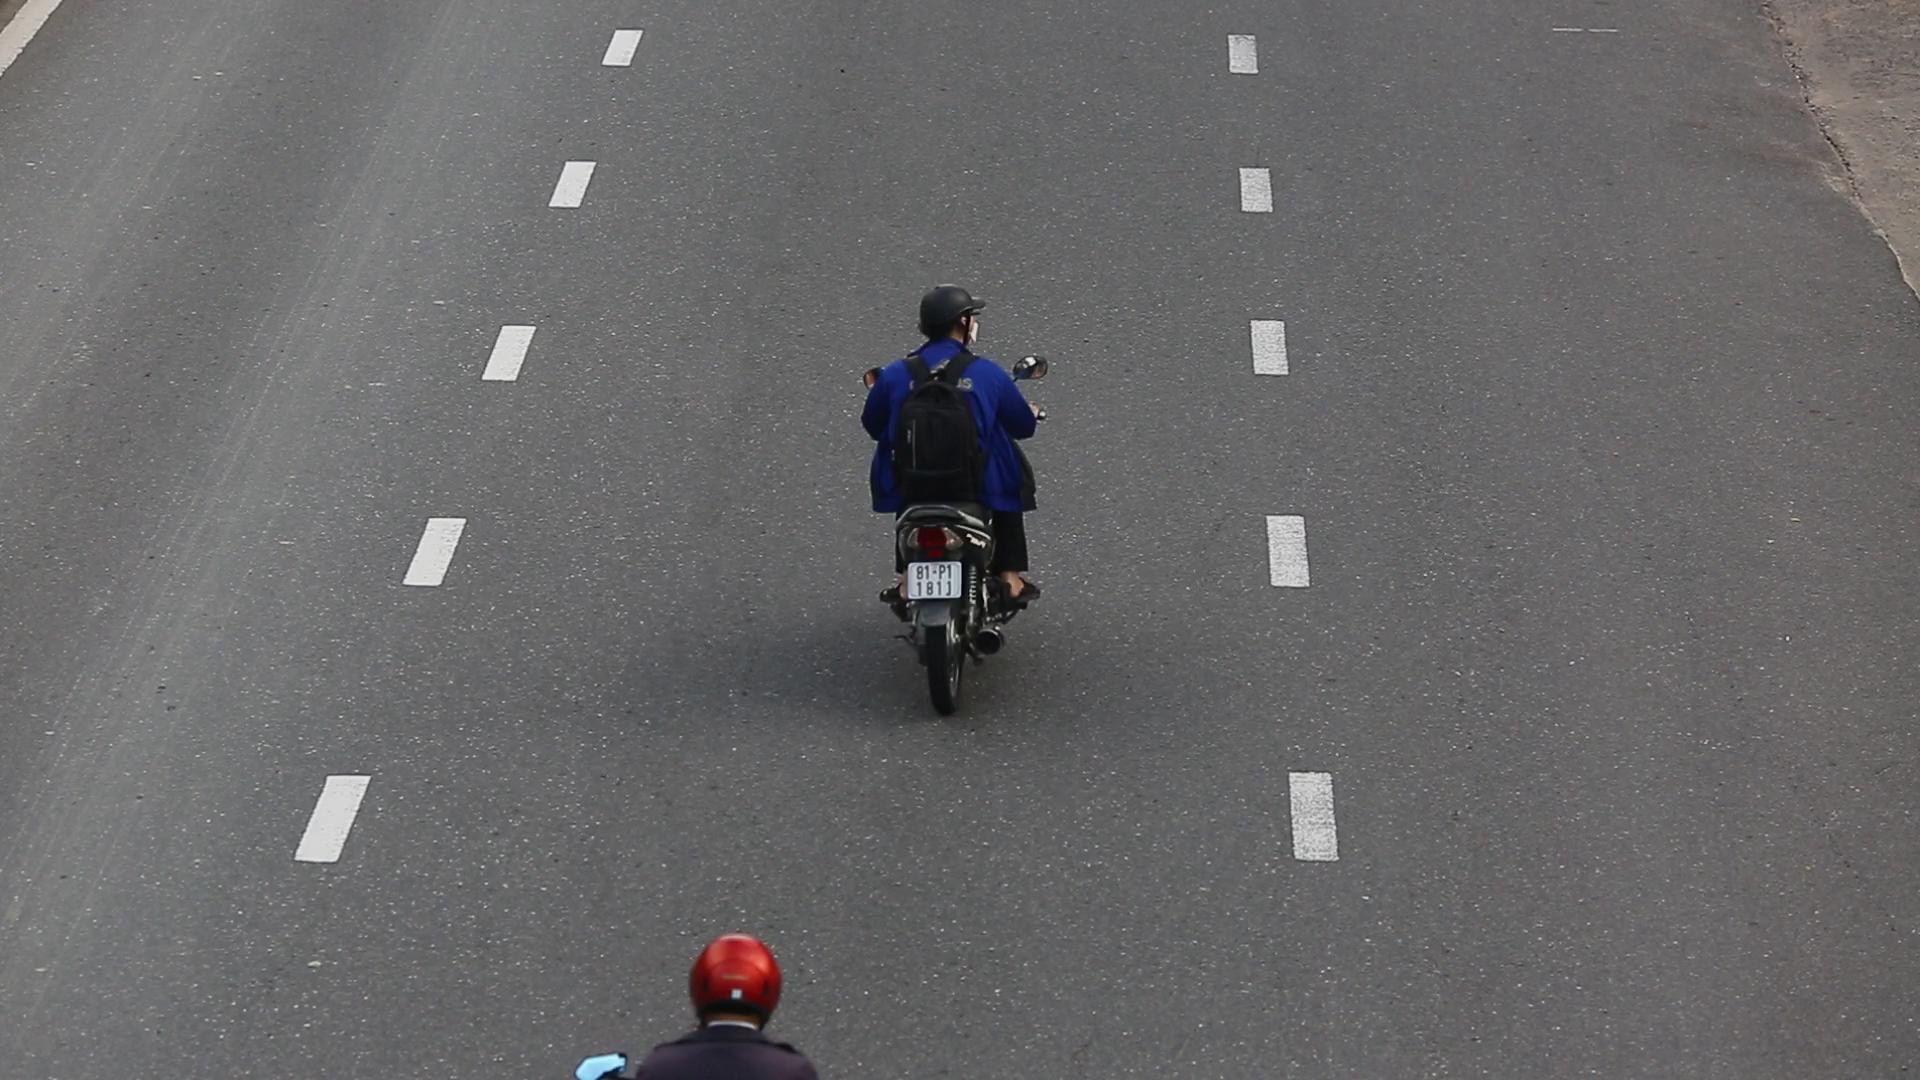motobike: (840, 270, 1069, 745)
